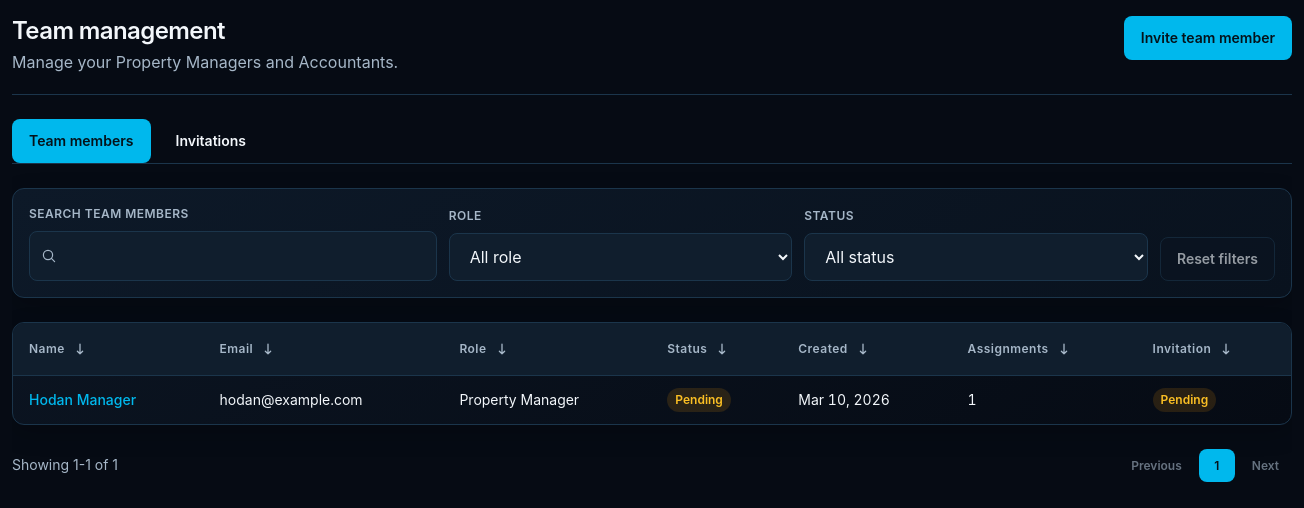
Test: Team management pages › resends or revokes pending invitations from the invitation view
Later steps or results of the test are not shown.
Click the tab "Invitations" at x=211, y=141, box [158,119,263,162]
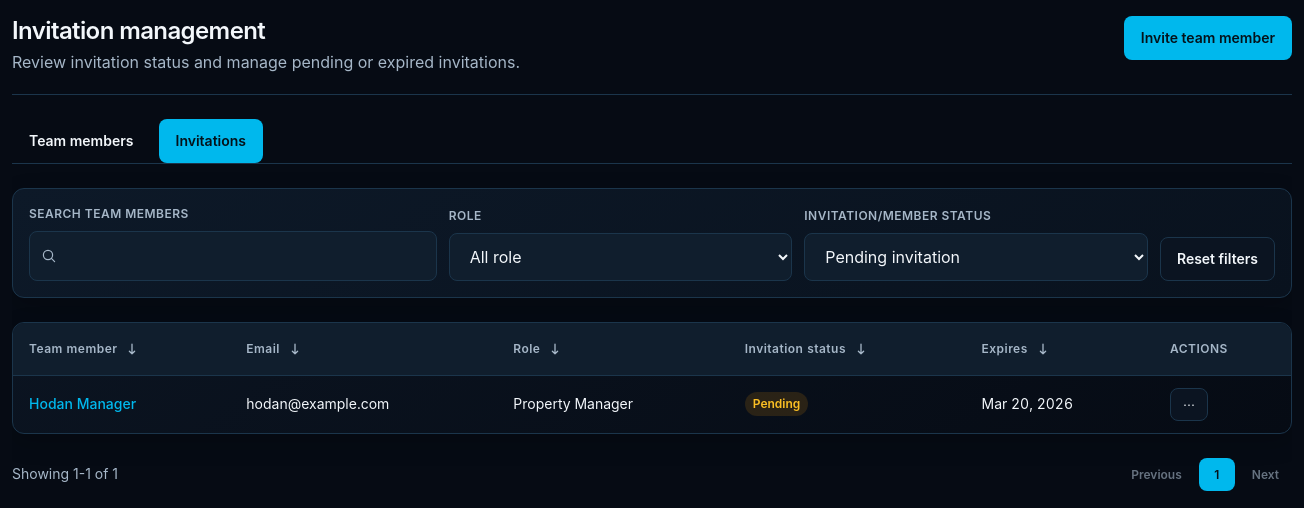
Expected: the table named "Team invitations" is shown, [13,322,1291,432]
